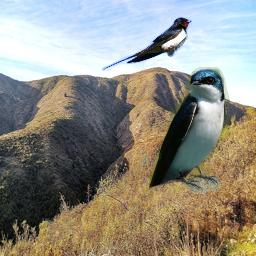Swallow: (149, 67, 230, 193), (101, 17, 192, 71)
